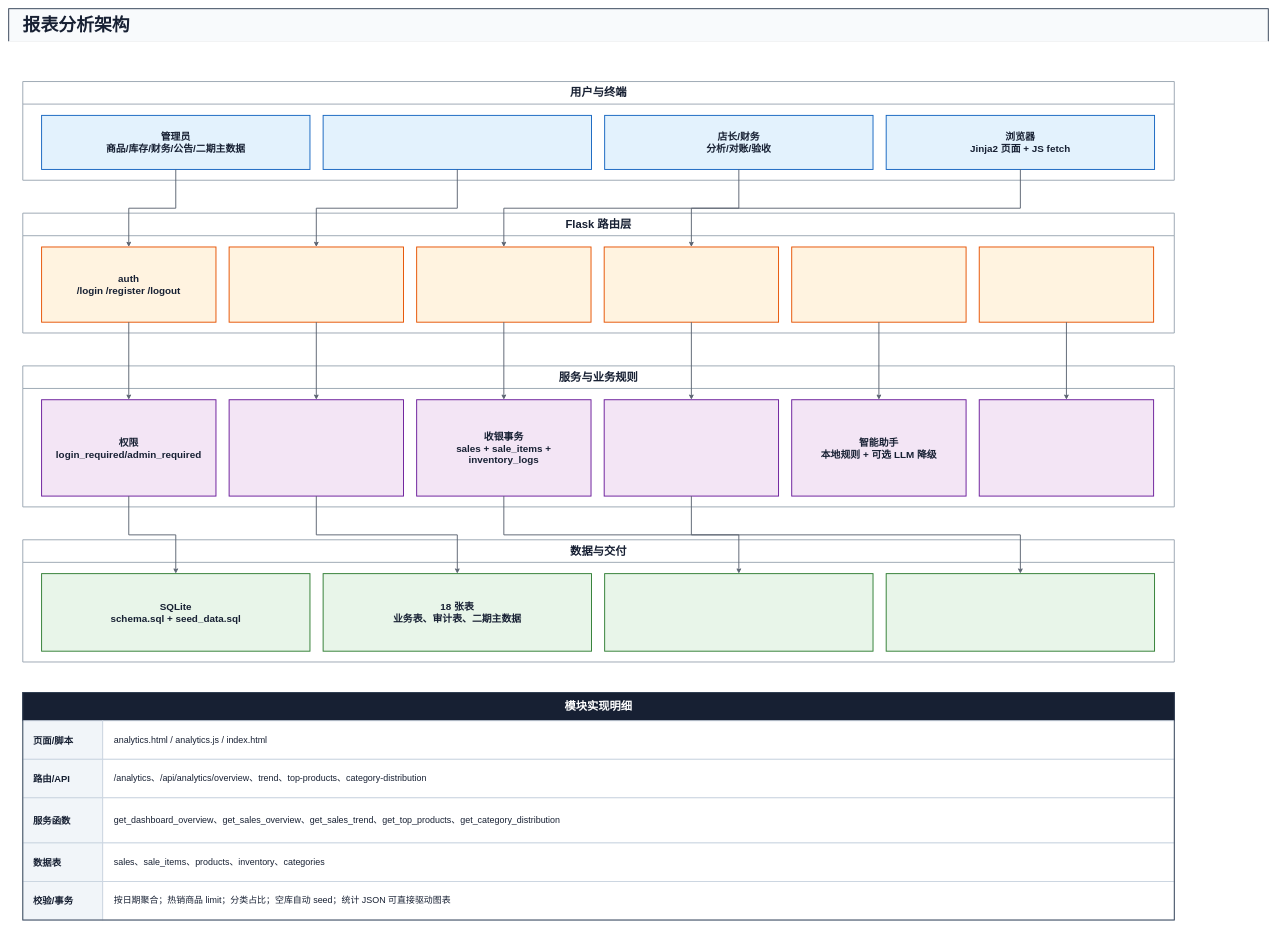
Image size: 1277x928. Some labels were removed from this diagram. Each missing label, with the box of its shape:
cashier/sales /checkout /orders /detail: (603, 246, 779, 322)
finance /overview /reconciliation /payables: (791, 246, 966, 322)
inventory /summary /list /logs /alerts: (416, 246, 591, 322)
product /api/products /import /categories: (228, 246, 404, 322)
second_phase /members /employees /suppliers /settings: (979, 246, 1154, 322)
可编辑图 中文 .drawio + PNG: (885, 573, 1155, 651)
商品库存 create/update/import + set_inventory_quantity: (228, 399, 404, 496)
报告 docx + 57 主图 + 12 用例图: (604, 573, 873, 651)
收银员 收银/销售/公告/助手: (322, 115, 592, 170)
架构图｜分层、模块、接口、数据表、权限边界: (8, 41, 1269, 61)
测试 pytest + coverage 100%: (979, 399, 1154, 496)
财务事务 transactions + reconciliation + payables: (603, 399, 779, 496)
